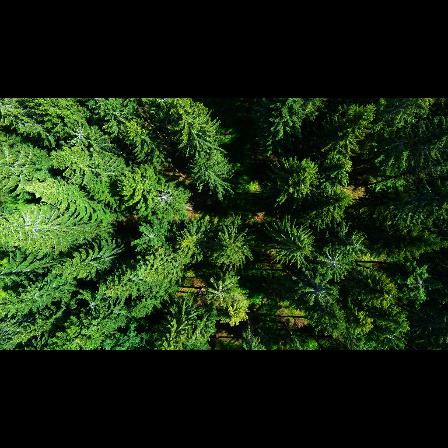Sick: (299, 273, 341, 309), (145, 180, 185, 217), (312, 246, 355, 280), (64, 120, 97, 150)
